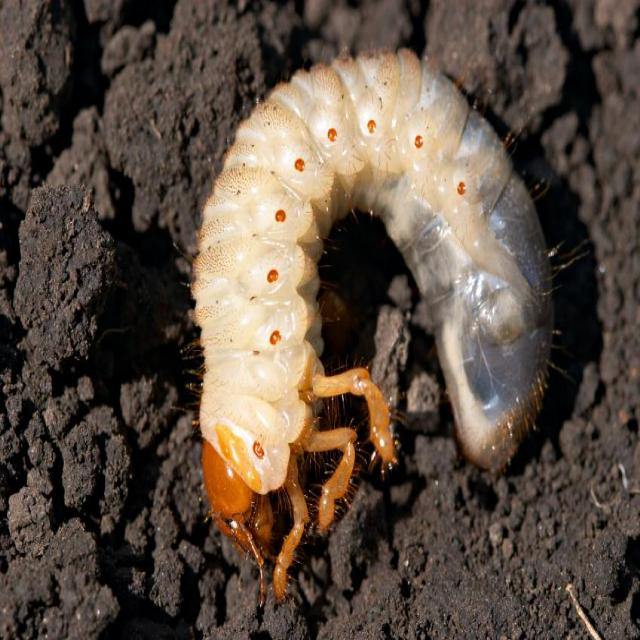Grub-Adult-: (193, 42, 560, 548)
